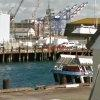Boat: (50, 46, 95, 86)
